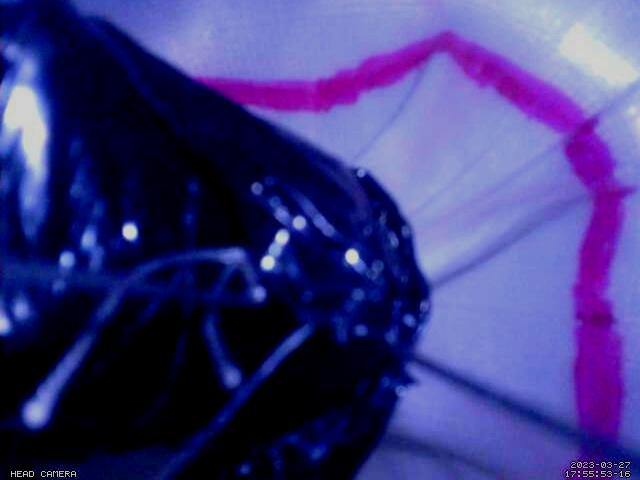red-circle: (194, 28, 625, 480)
